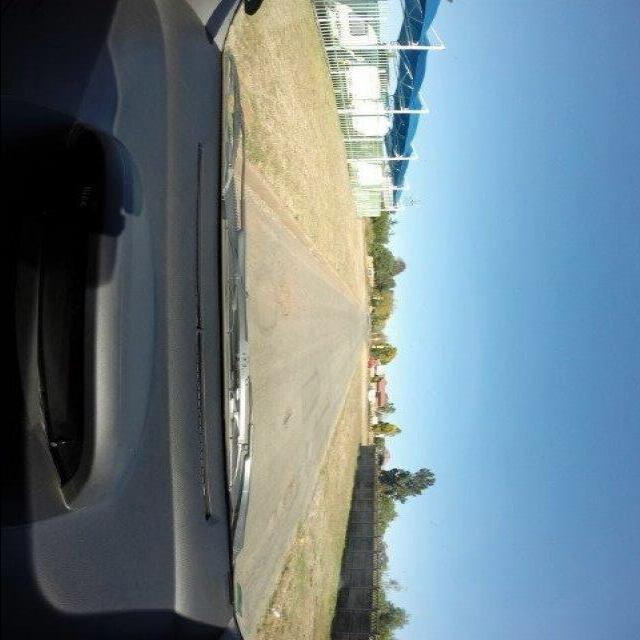jalan retak: (263, 467, 305, 529)
lubang: (278, 278, 298, 322), (278, 404, 298, 430)
